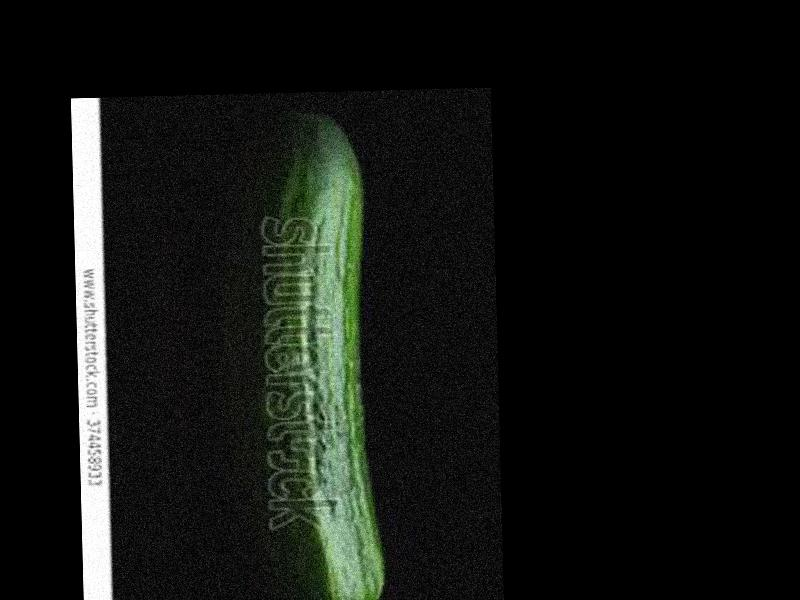Cucumber: (253, 112, 382, 600)
